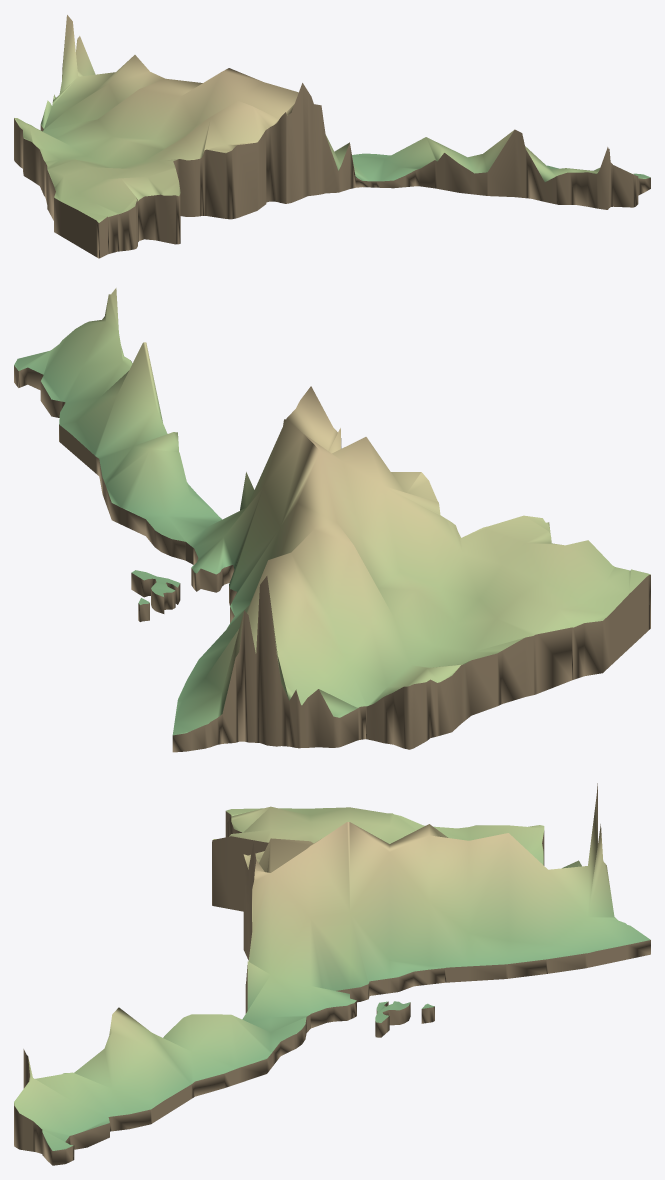
File: ERI.glb
3 views of the same model, one above another, from view 1: azimuth 30°, elevation 25°; view 2: azimuth 150°, elevation 25°; view 3: azimuth 270°, elevation 25° (orthographic). The views are drawn at different scales.
Parts seen in each view (by area): view 1: ERI; view 2: ERI; view 3: ERI.
Part boxes in pixels (bbox=[...]): ERI: bbox=[14, 15, 650, 258]; ERI: bbox=[14, 288, 650, 752]; ERI: bbox=[14, 783, 650, 1165].
Bounding box in the file's own units: 1.5 × 0.338 × 1.29.
